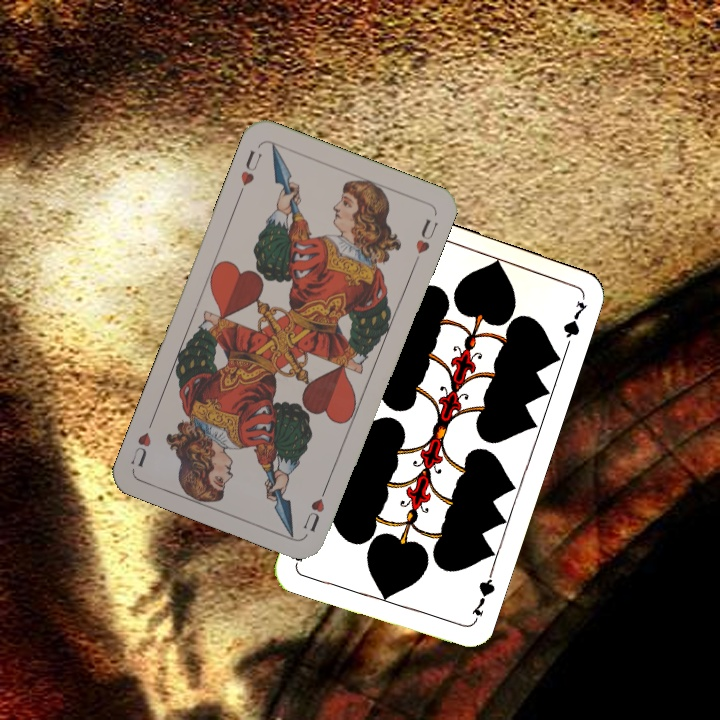G7: (467, 568, 498, 626)
HU: (299, 480, 331, 535), (234, 146, 265, 199)
